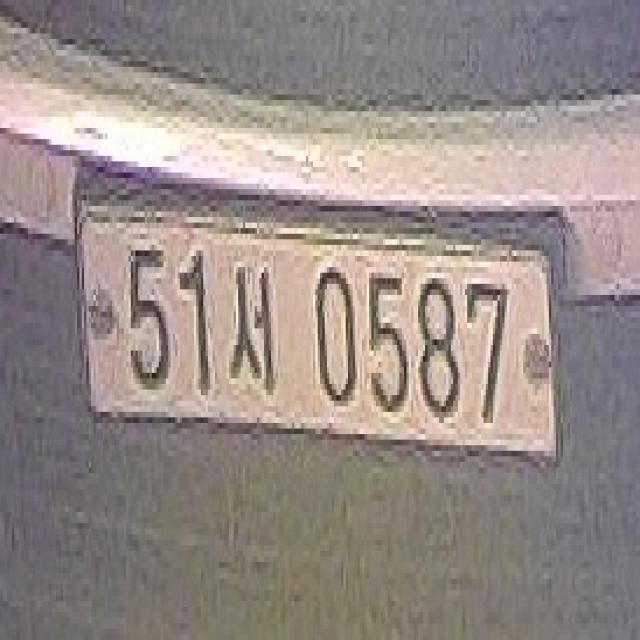0: (311, 251, 358, 415)
1: (172, 235, 216, 410)
5: (124, 234, 170, 404), (365, 258, 408, 426)
7: (464, 270, 510, 430)
8: (412, 268, 462, 430)
license_plate: (61, 168, 579, 501)
seo: (228, 256, 278, 414)
